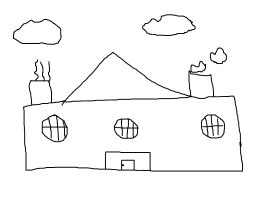closed_window: (41, 114, 69, 141), (199, 114, 226, 138), (113, 118, 140, 139)
clouds: (137, 9, 200, 39), (10, 15, 64, 47)
door: (101, 146, 155, 178)
roof: (64, 51, 196, 102)
smoking_chimney: (183, 44, 233, 102), (23, 56, 57, 108)
wall: (20, 94, 247, 176)
